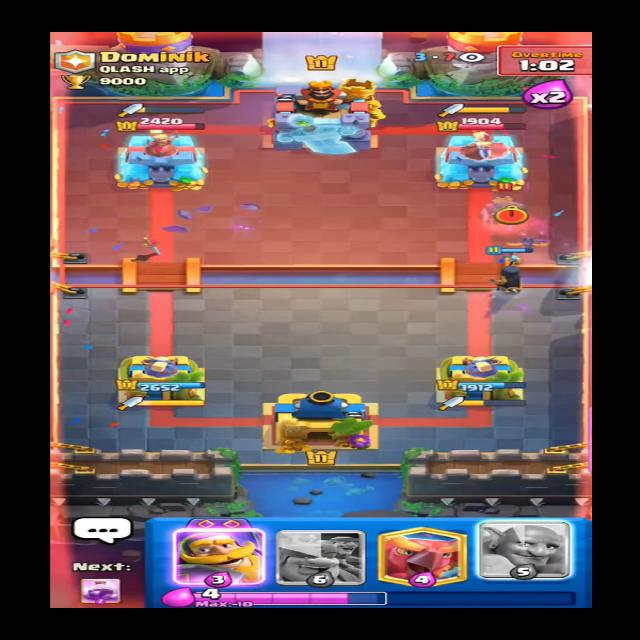royal-ghost: (468, 184, 541, 230)
